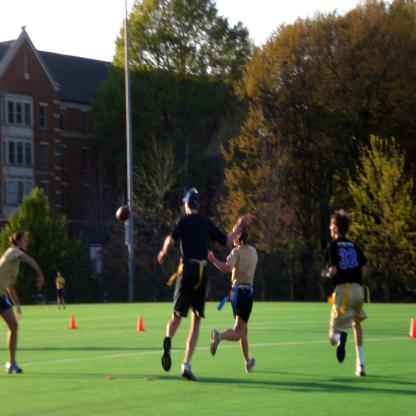Ball: (114, 207, 130, 219)
